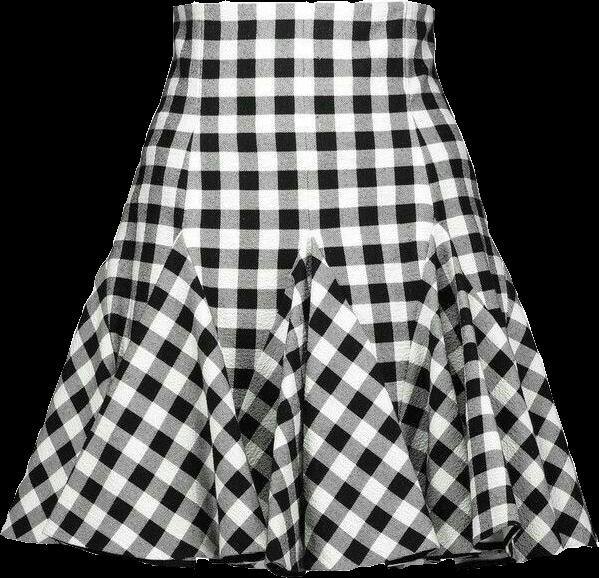Hemline: (0, 522, 598, 577)
Waistline: (103, 218, 522, 422), (172, 0, 437, 13)
